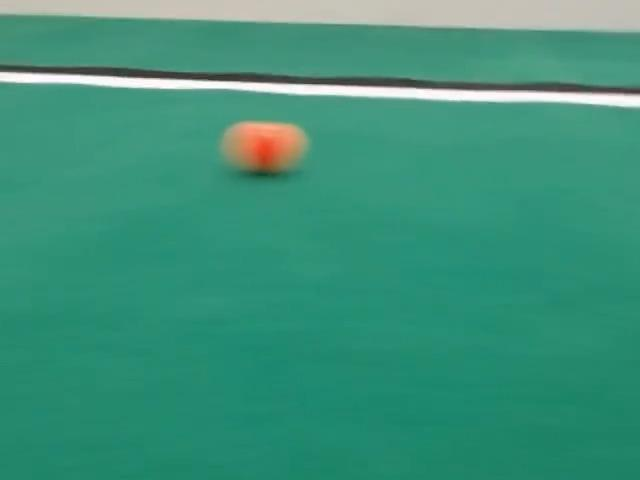Ball: (222, 121, 308, 173)
